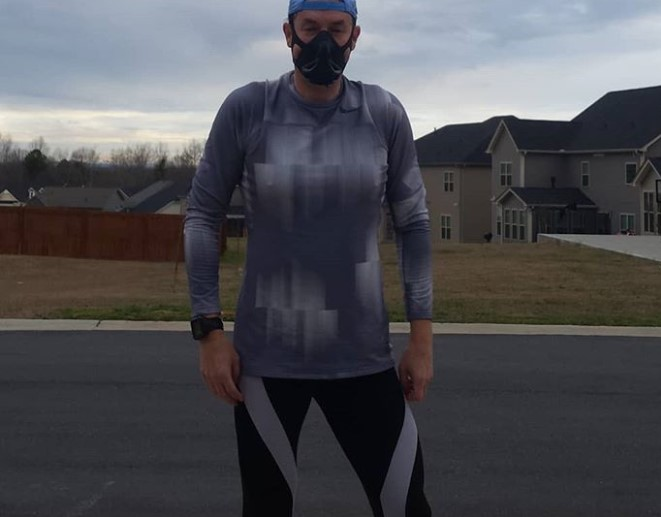face_with_mask: (278, 3, 362, 88)
